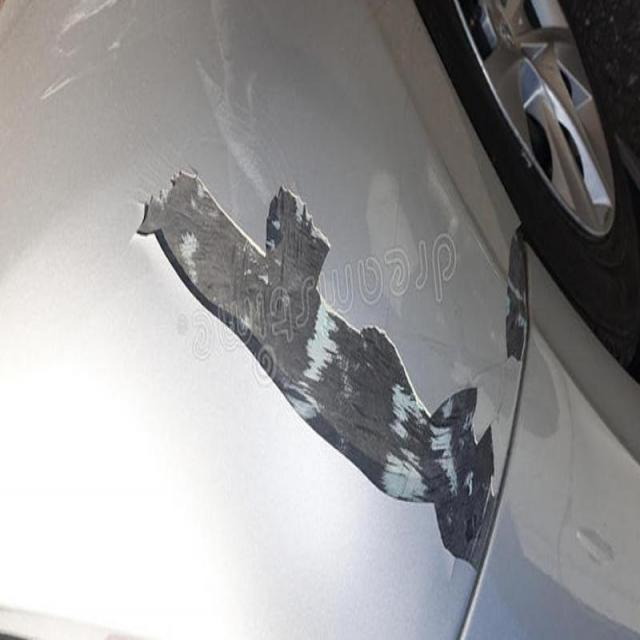scratch: (117, 174, 540, 578)
